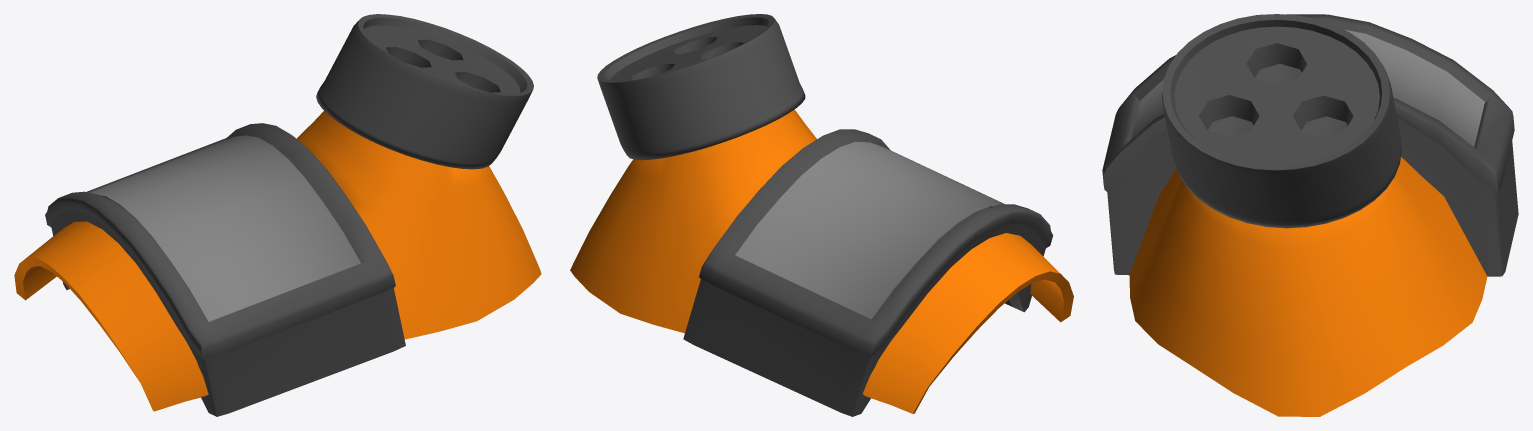
The model's file is scba_mask.fbx.
The picture shows the model from 3 angles, left to right: view 1: azimuth 30°, elevation 25°; view 2: azimuth 150°, elevation 25°; view 3: azimuth 270°, elevation 25°; orthographic projection. The views are drawn at different scales.
Parts seen in each view (by area): view 1: scbamask_m; view 2: scbamask_m; view 3: scbamask_m.
Part boxes in pixels (x1=…): scbamask_m: x1=14, y1=14, x2=541, y2=416; scbamask_m: x1=570, y1=14, x2=1073, y2=416; scbamask_m: x1=1102, y1=14, x2=1518, y2=416.
Bounding box in the file's own units: 1550 × 870 × 1036.
